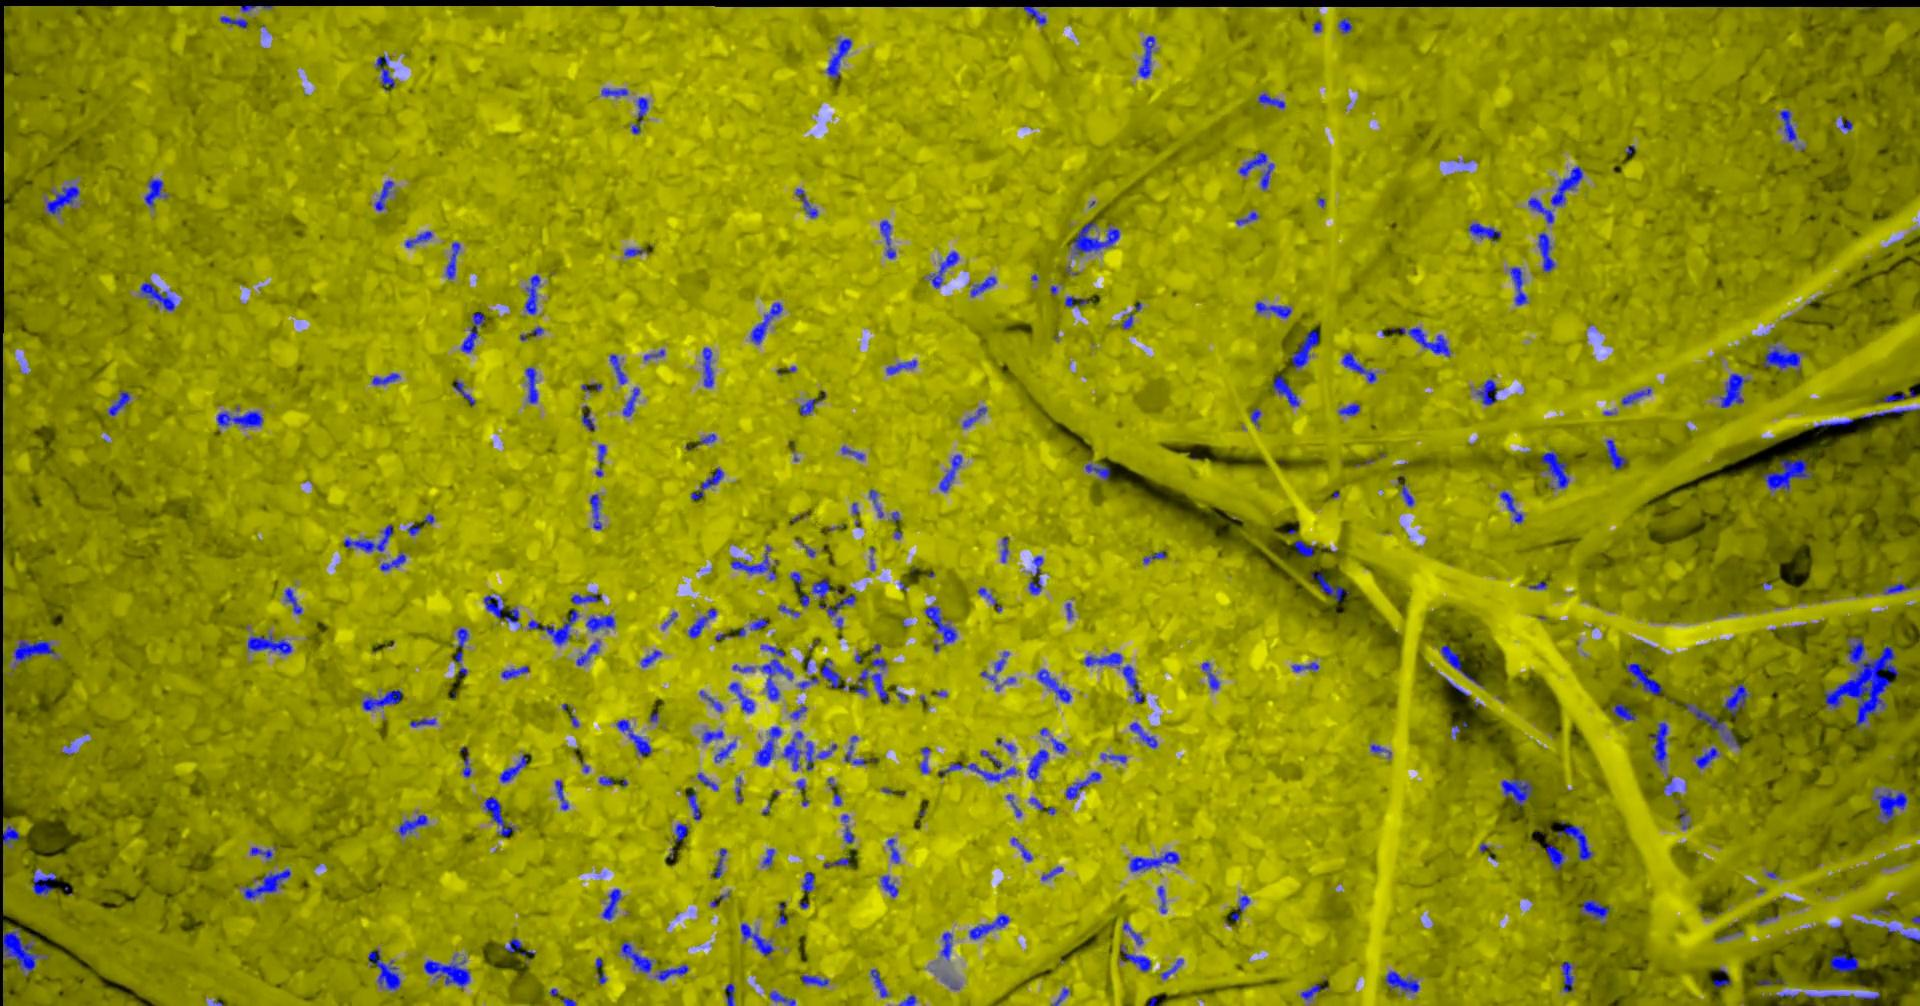ant: (1083, 652, 1143, 702), (1683, 702, 1740, 748), (782, 730, 836, 770), (3, 922, 44, 970), (759, 644, 792, 700), (527, 608, 578, 644), (1440, 644, 1482, 686), (1390, 326, 1450, 356), (1761, 459, 1812, 492), (1070, 221, 1119, 254), (730, 545, 775, 580), (423, 955, 469, 988), (938, 762, 1017, 781), (243, 868, 290, 899), (1557, 821, 1592, 860), (367, 948, 400, 989), (342, 525, 392, 551), (1238, 151, 1272, 191), (750, 302, 782, 344), (615, 719, 651, 754), (1550, 165, 1582, 206), (924, 605, 956, 644), (483, 796, 514, 836), (853, 667, 888, 702), (1625, 663, 1662, 694), (13, 639, 55, 666), (690, 467, 723, 500), (1037, 669, 1070, 702), (1874, 790, 1907, 823), (1341, 351, 1375, 382), (928, 251, 957, 288), (1290, 330, 1318, 368), (1310, 572, 1349, 600), (825, 38, 851, 79), (1540, 451, 1568, 488), (754, 727, 781, 765), (1129, 851, 1178, 871), (740, 923, 773, 954), (138, 282, 174, 310), (483, 594, 518, 622), (1064, 771, 1100, 799), (969, 915, 1010, 939), (1500, 777, 1533, 807), (460, 312, 484, 352), (248, 633, 291, 654), (621, 941, 651, 972), (499, 753, 531, 782), (46, 185, 79, 213), (1719, 373, 1747, 406), (844, 735, 877, 763), (1763, 345, 1799, 370), (938, 453, 961, 492), (1648, 721, 1667, 767), (362, 688, 401, 710), (1272, 375, 1299, 406), (1722, 683, 1749, 715), (1119, 944, 1150, 970), (688, 608, 716, 638), (1580, 898, 1611, 923), (1498, 490, 1523, 523), (729, 682, 754, 713), (819, 594, 855, 616), (1137, 36, 1154, 77), (1509, 267, 1528, 305), (1385, 970, 1418, 992), (1129, 721, 1157, 747), (1537, 232, 1554, 272), (216, 412, 262, 427), (1859, 406, 1919, 418), (375, 55, 394, 90), (1528, 197, 1553, 224), (879, 218, 895, 258), (143, 178, 166, 206), (795, 188, 817, 217), (1605, 439, 1627, 469), (820, 658, 841, 688), (32, 870, 56, 895), (631, 97, 648, 133), (1255, 301, 1291, 318), (601, 888, 620, 920), (524, 274, 540, 314), (1027, 749, 1048, 779), (397, 814, 427, 835), (107, 390, 130, 415), (577, 640, 599, 666), (453, 379, 475, 405), (585, 614, 615, 633), (1029, 555, 1043, 594), (1467, 224, 1500, 240), (655, 964, 688, 981), (1829, 953, 1859, 970), (0, 826, 19, 854), (1545, 843, 1564, 871), (1779, 109, 1796, 141), (698, 690, 723, 711), (1694, 747, 1718, 768), (1010, 837, 1031, 861), (375, 180, 392, 210), (970, 276, 996, 296), (1476, 379, 1496, 404), (1876, 389, 1916, 401), (444, 241, 458, 278), (1201, 661, 1219, 688), (870, 969, 888, 997), (1161, 958, 1183, 979), (1230, 895, 1250, 921), (610, 354, 626, 384), (622, 387, 639, 417), (1622, 387, 1651, 404), (455, 627, 469, 662), (378, 553, 405, 570), (284, 587, 302, 614), (1029, 796, 1055, 814), (714, 741, 735, 762), (963, 406, 985, 427), (524, 367, 537, 403), (711, 848, 726, 878), (1023, 5, 1046, 24), (1123, 921, 1142, 944), (1611, 702, 1636, 720), (1300, 984, 1328, 1000), (702, 347, 712, 387), (980, 669, 1001, 690), (886, 359, 916, 373), (554, 780, 568, 809), (1257, 93, 1284, 108), (404, 231, 430, 246), (589, 493, 601, 528), (686, 793, 701, 819), (1084, 464, 1109, 480), (869, 489, 883, 517), (879, 875, 898, 895), (770, 989, 795, 1005), (841, 814, 853, 843), (1561, 962, 1573, 991), (799, 398, 819, 415), (1293, 540, 1313, 558), (811, 578, 829, 598), (697, 772, 717, 790), (640, 650, 662, 667), (460, 746, 471, 776), (1006, 794, 1021, 817), (1064, 295, 1091, 307), (1815, 418, 1853, 427), (977, 587, 996, 605), (502, 666, 528, 678), (823, 855, 850, 868), (218, 15, 246, 27), (1236, 211, 1258, 225), (371, 372, 399, 384), (940, 931, 951, 959), (886, 838, 899, 862), (594, 956, 606, 983), (801, 974, 828, 986), (1040, 866, 1062, 880), (571, 593, 601, 603), (841, 446, 863, 459), (1142, 550, 1164, 563), (599, 86, 627, 97), (994, 652, 1008, 672), (596, 445, 604, 476), (1401, 484, 1413, 506), (1883, 583, 1910, 593), (919, 747, 930, 774), (674, 823, 688, 842), (1338, 403, 1359, 415), (582, 410, 594, 431), (790, 704, 806, 719), (1050, 737, 1065, 753), (1157, 885, 1166, 913), (503, 937, 521, 951), (801, 871, 814, 890), (1291, 662, 1318, 671), (409, 718, 436, 727), (1100, 753, 1126, 762), (702, 730, 723, 742), (249, 847, 272, 857), (1337, 17, 1351, 33), (762, 848, 775, 866), (724, 983, 734, 1005), (697, 433, 715, 445), (790, 572, 801, 589), (1679, 807, 1688, 829), (1001, 536, 1008, 561), (750, 619, 767, 630), (623, 248, 644, 257), (1250, 408, 1260, 426), (898, 995, 916, 1005), (1756, 978, 1784, 984), (778, 902, 786, 923), (735, 776, 742, 801), (1712, 978, 1730, 987), (1121, 312, 1131, 328), (871, 658, 886, 668), (598, 776, 613, 785)
